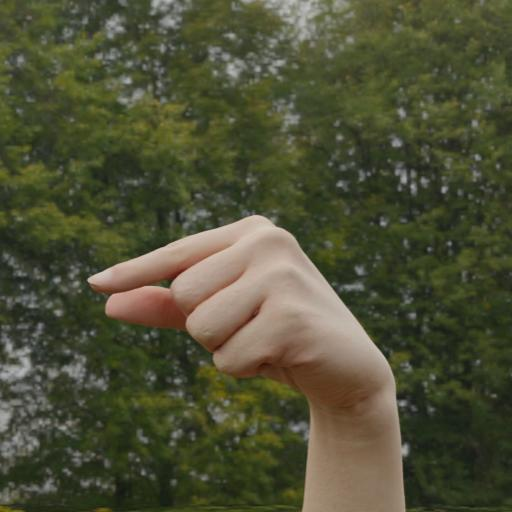G: (72, 200, 426, 428)
